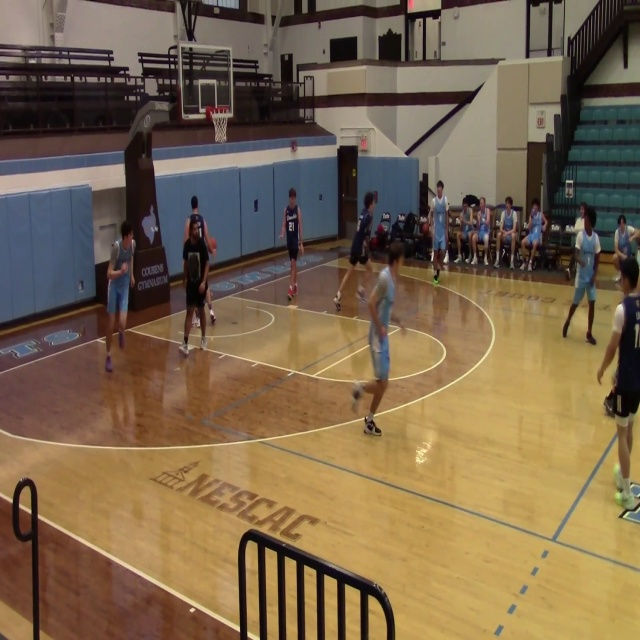Basketball: (288, 284, 297, 295)
